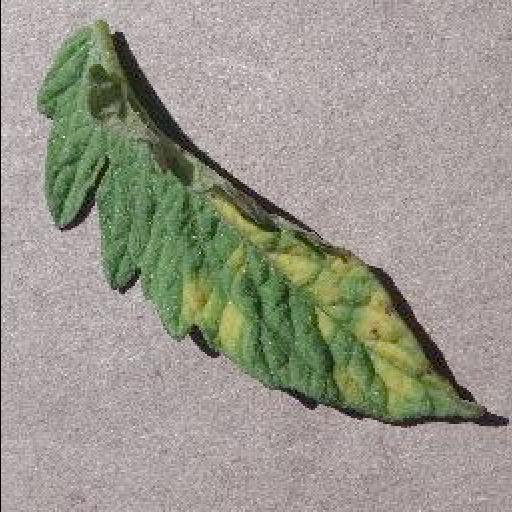disease_tomato: (36, 30, 488, 424)
